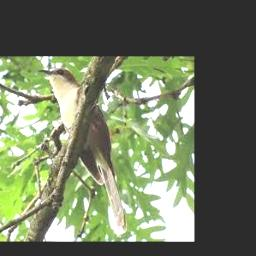Cuckoo: (39, 69, 128, 231)
